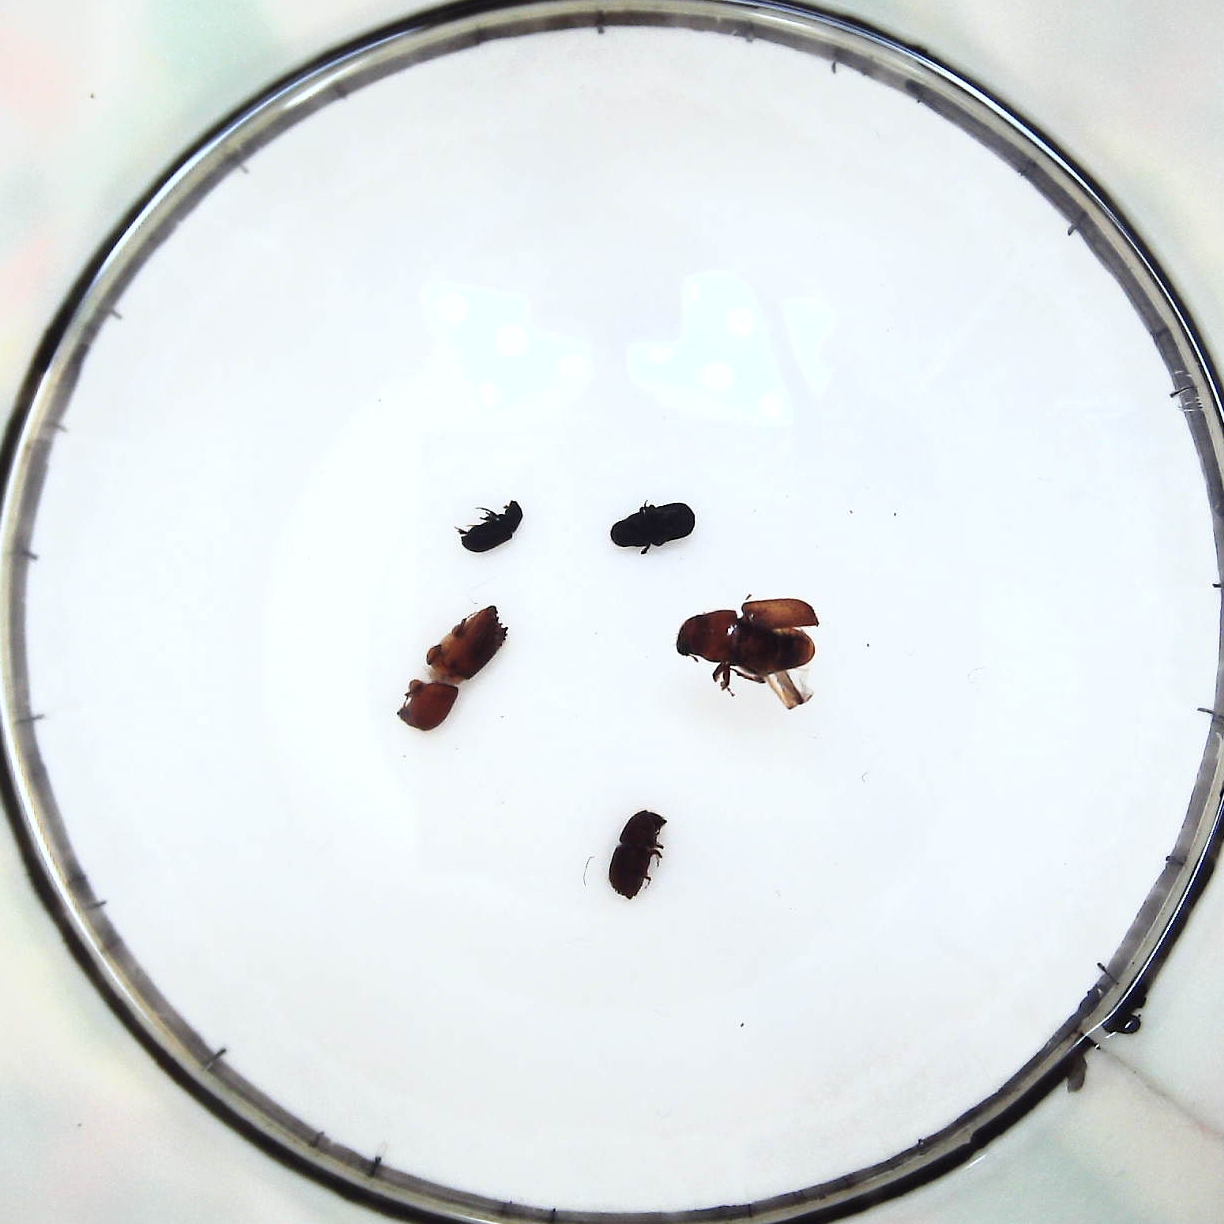Boerner: (388, 604, 506, 729)
Leconte: (673, 597, 820, 699)
Linnaeus: (608, 812, 661, 894)
armandi: (603, 502, 701, 553)
coleoptera: (464, 502, 522, 563)
